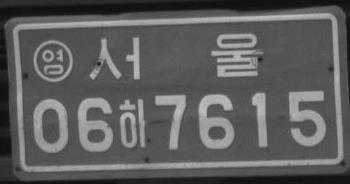0: (31, 98, 68, 154)
1: (242, 91, 278, 148)
5: (287, 89, 328, 147)
6: (197, 93, 236, 150), (76, 96, 114, 153)
7: (154, 93, 187, 151)
서울_D: (88, 32, 262, 80)
영: (32, 39, 73, 82)
하: (118, 98, 148, 148)
